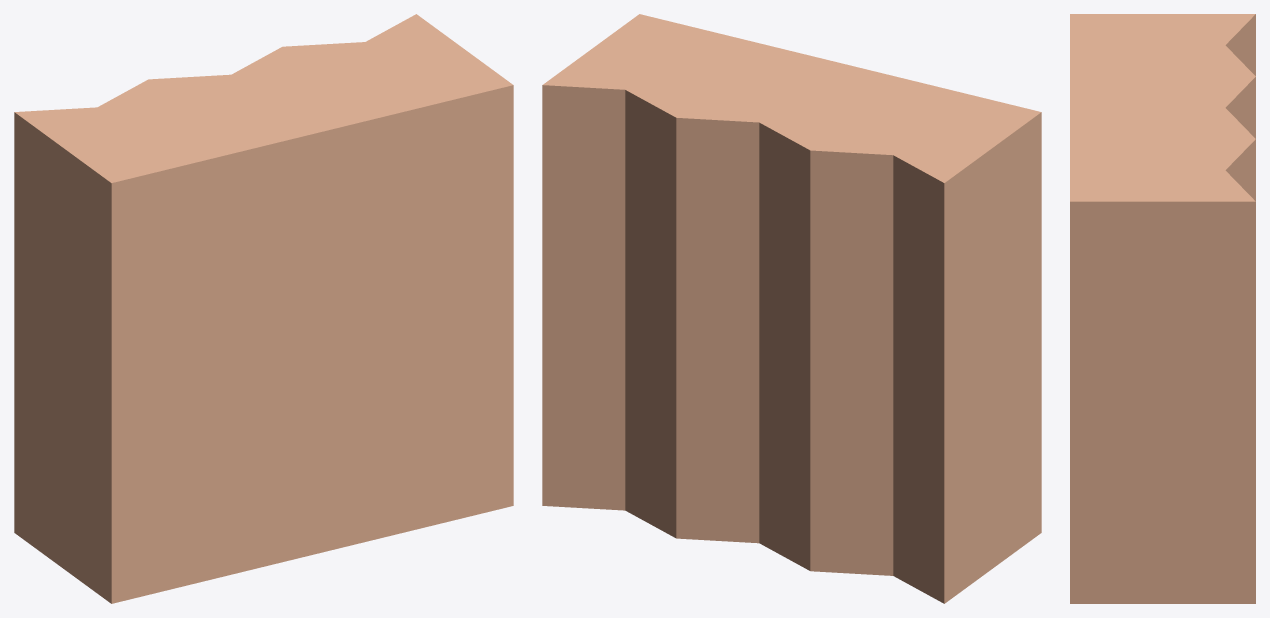
The model's file is cliff_large_rock.glb.
3 views of the same model, side by side, from view 1: azimuth 30°, elevation 25°; view 2: azimuth 150°, elevation 25°; view 3: azimuth 270°, elevation 25° (orthographic). The views are drawn at different scales.
Parts seen in each view (by area): view 1: cliff_large_rock; view 2: cliff_large_rock; view 3: cliff_large_rock.
Boxes of the visible parts, x1,y1,x2,y2 form: cliff_large_rock: (14,14,513,603); cliff_large_rock: (542,14,1041,603); cliff_large_rock: (1070,14,1255,603).
Size of the model in its own units: 1 by 1 by 0.4185.
